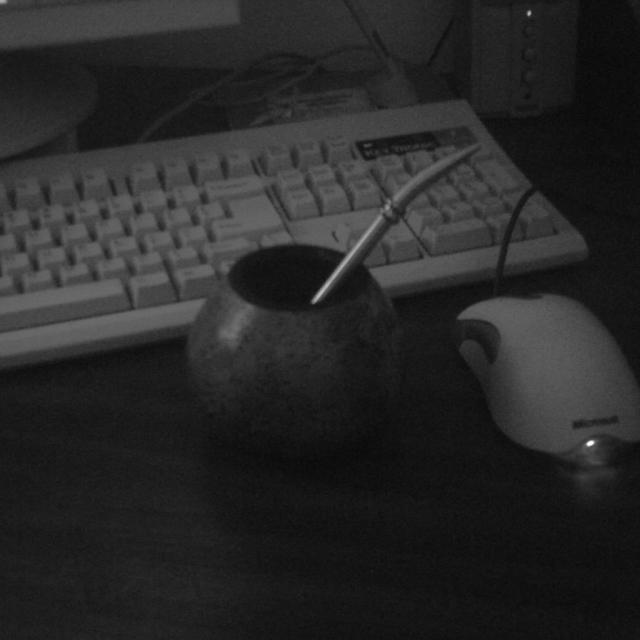Computer mouse: (451, 294, 639, 468)
